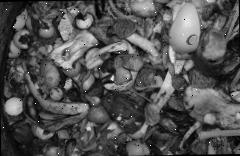organic: (168, 1, 204, 57), (47, 34, 98, 68), (37, 18, 57, 42), (12, 26, 31, 50), (76, 12, 98, 30), (50, 87, 63, 103), (12, 16, 26, 30)
